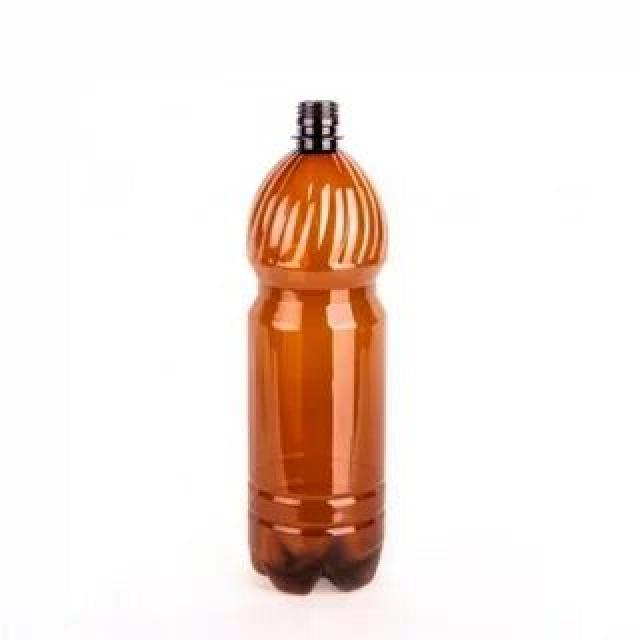brown: (246, 99, 386, 594)
